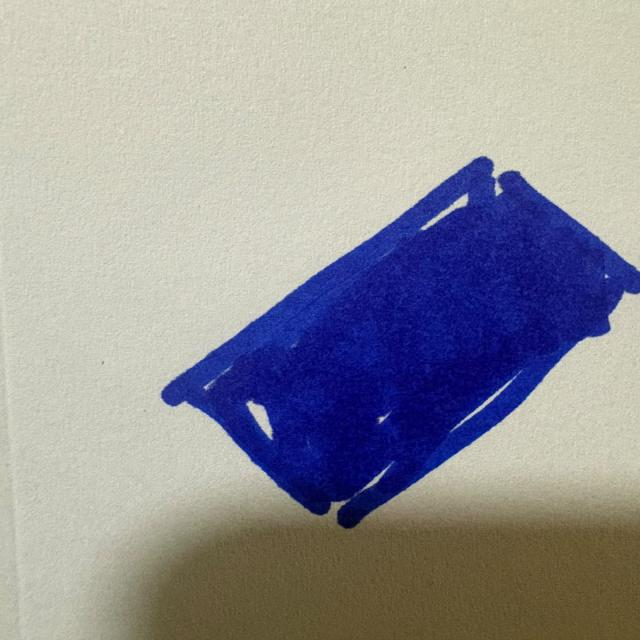Rectangle: (157, 154, 639, 540)
